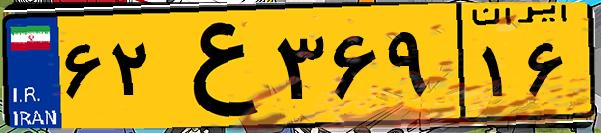1: (475, 38, 525, 113)
2: (110, 28, 158, 98)
3: (270, 28, 330, 110)
6: (330, 28, 385, 110), (57, 26, 110, 100), (525, 38, 570, 115)
9: (385, 28, 445, 110)
ع: (158, 12, 270, 120)
